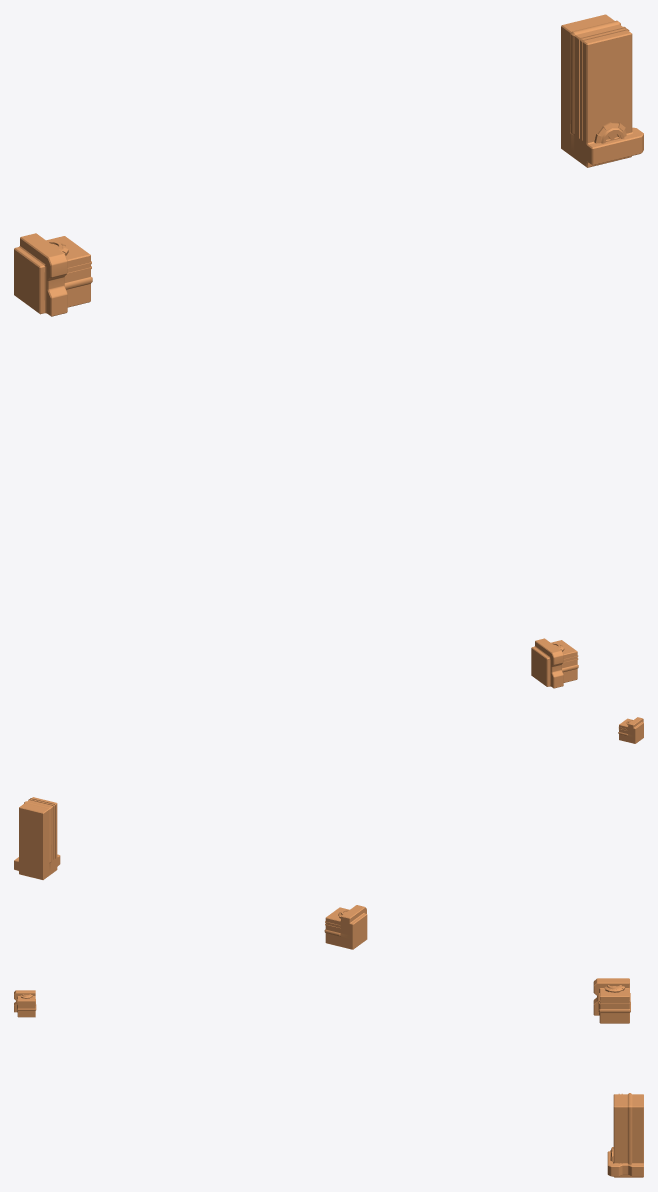
Rendered from generator_boxes_02.fbx.
3 renders of one model, top to bottom at view 1: azimuth 30°, elevation 25°; view 2: azimuth 150°, elevation 25°; view 3: azimuth 270°, elevation 25°, orthographic. The views are drawn at different scales.
Parts seen in each view (by area): view 1: generator_boxes_02; view 2: generator_boxes_02; view 3: generator_boxes_02.
Part boxes in pixels (x1,y1,x2,y2): generator_boxes_02: [14, 14, 643, 688]; generator_boxes_02: [14, 717, 643, 949]; generator_boxes_02: [14, 978, 643, 1177].
Size of the model in its own units: 22.42 by 4.41 by 34.71.
